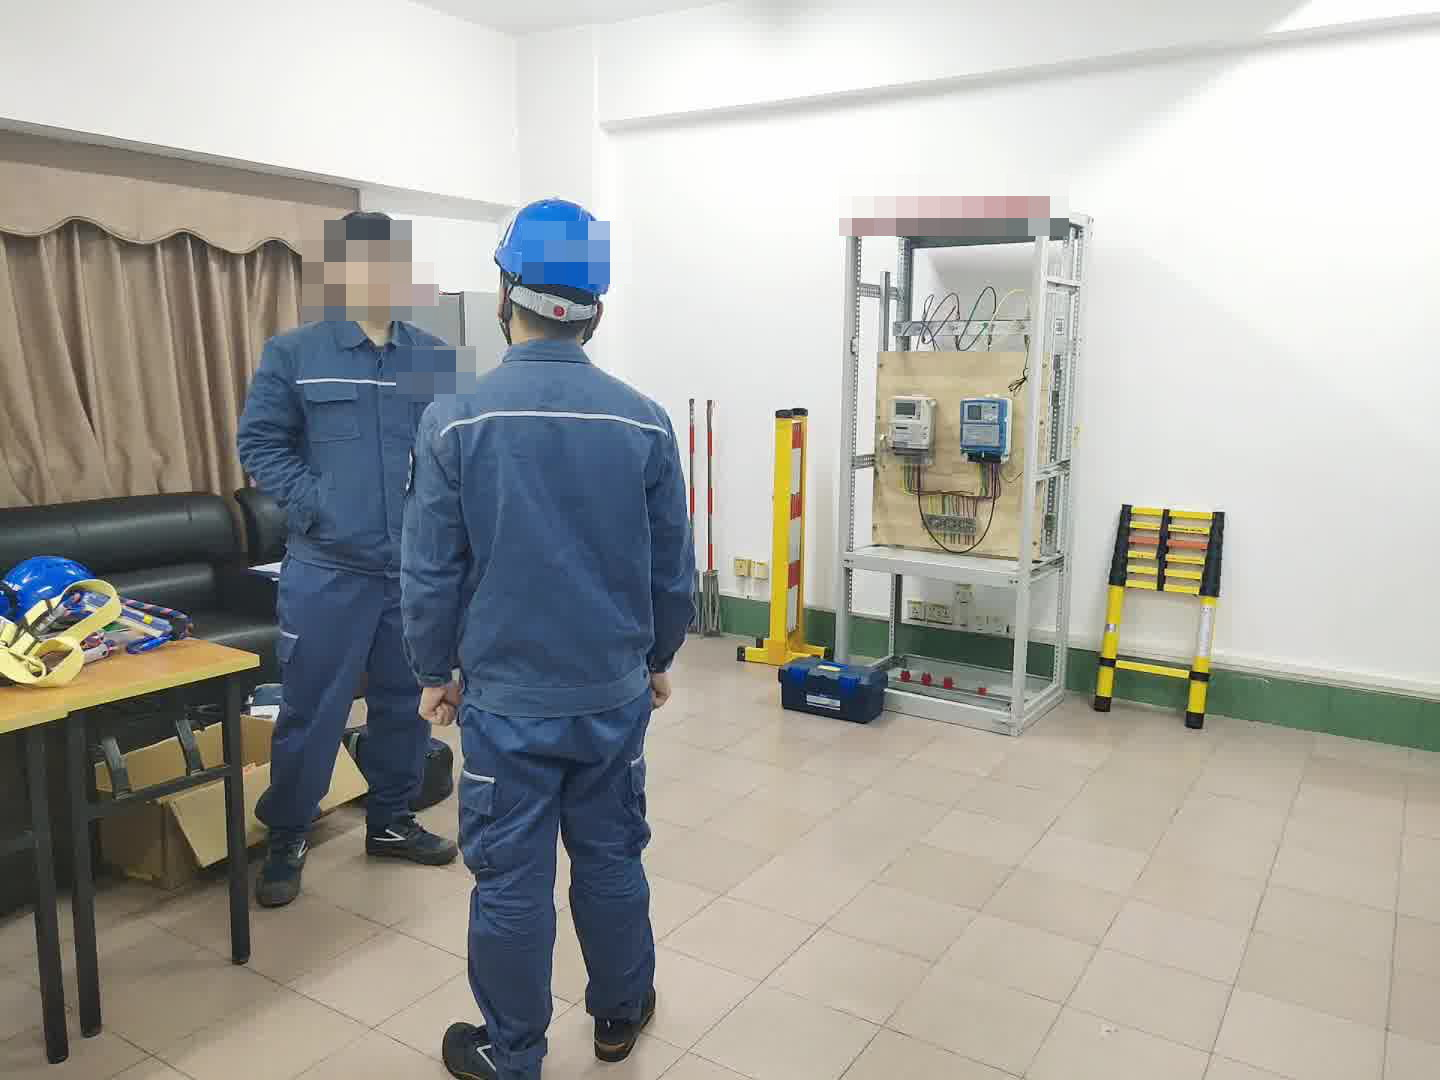downsuit: (454, 718, 663, 1071), (264, 585, 418, 840)
halt: (491, 198, 615, 347)
hand: (415, 681, 461, 727), (650, 671, 673, 710)
noear: (324, 238, 357, 297)
person: (402, 190, 700, 1077), (233, 206, 464, 892)
unhalt: (326, 210, 418, 318)
upsuit: (408, 342, 690, 693), (235, 309, 462, 573)
